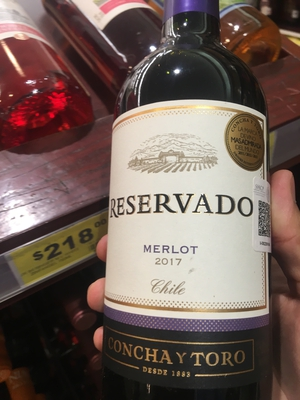reservado merlot: (99, 18, 269, 400)
